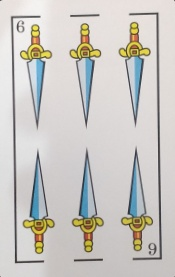6e: (10, 11, 159, 35)
